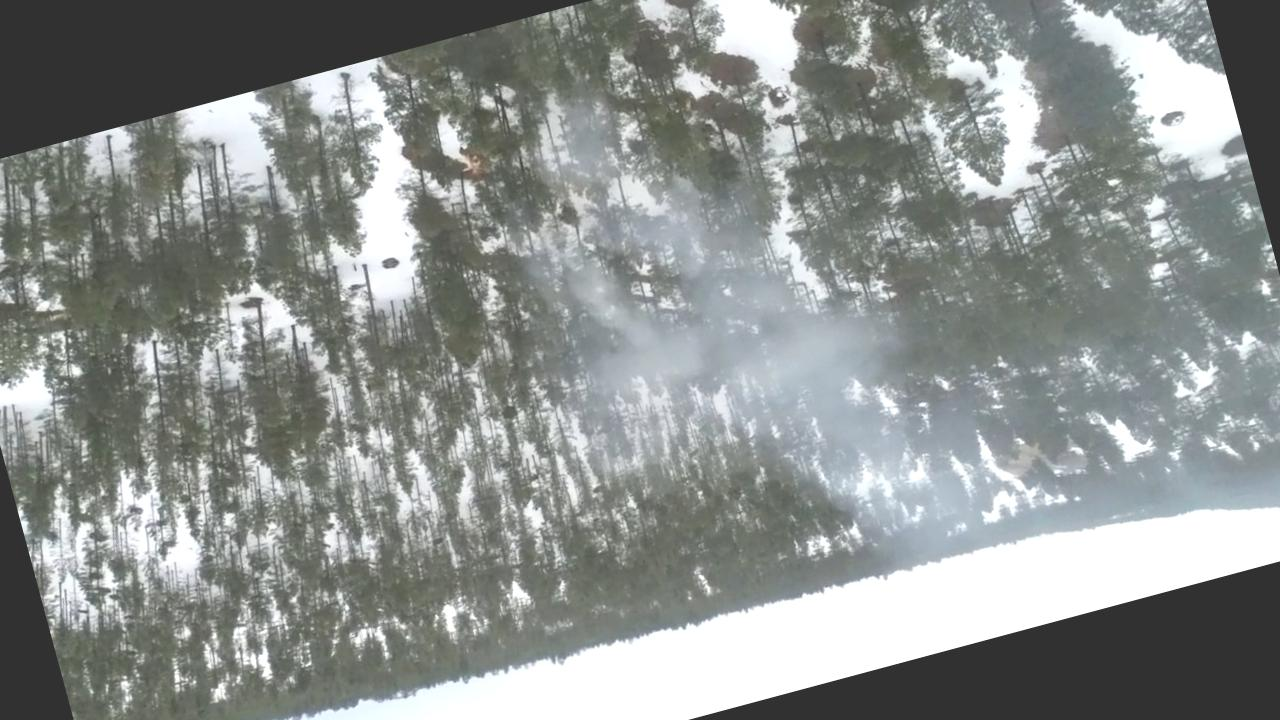smoke: (496, 13, 1074, 631)
